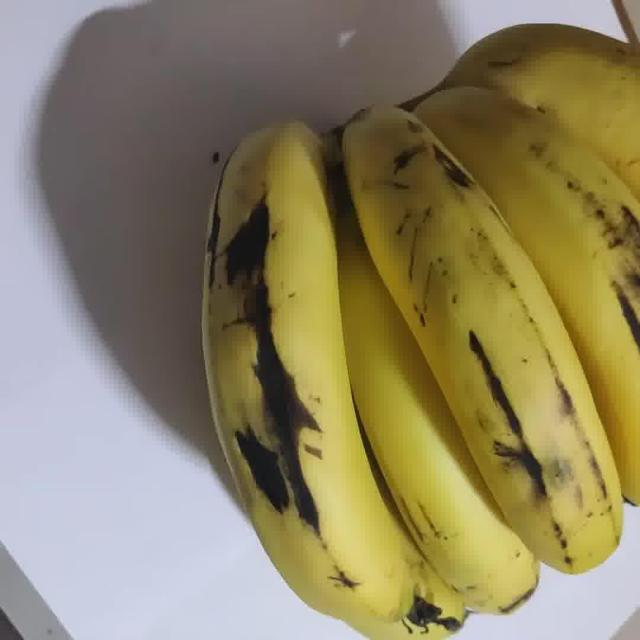Banana: (201, 24, 639, 639)
